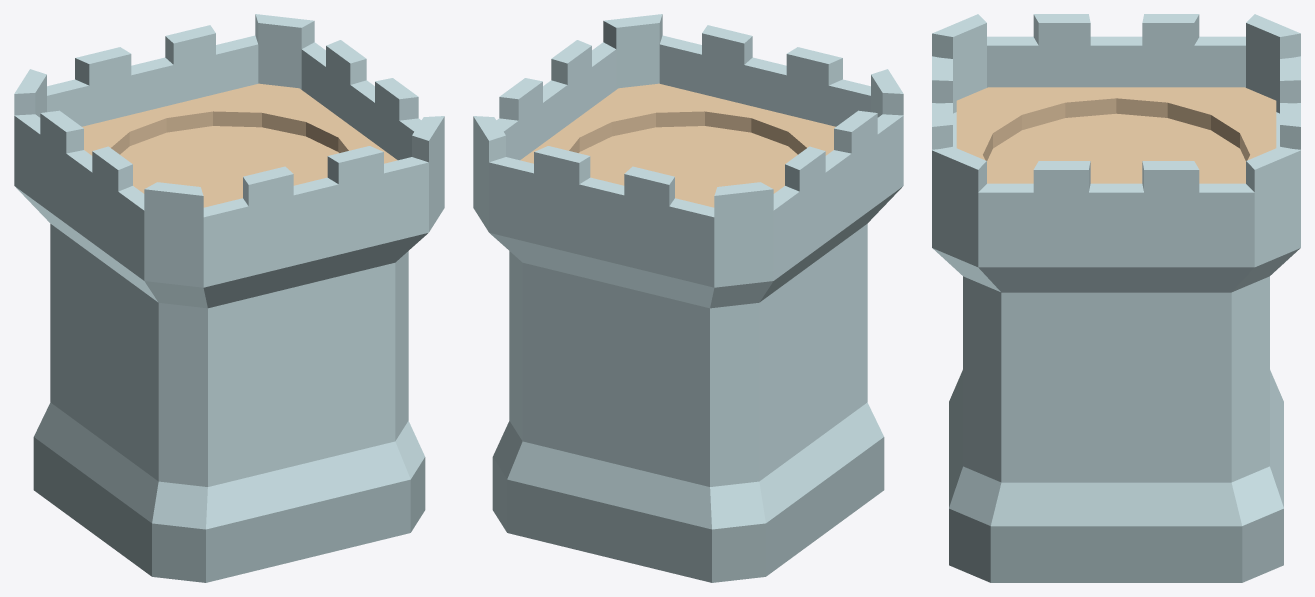
Rendered from Tower_3_Stone.fbx.
3 views of the same model, side by side, from view 1: azimuth 30°, elevation 25°; view 2: azimuth 150°, elevation 25°; view 3: azimuth 270°, elevation 25° (orthographic). The views are drawn at different scales.
Parts seen in each view (by area): view 1: Tower_3_Stone; view 2: Tower_3_Stone; view 3: Tower_3_Stone.
Boxes of the visible parts, x1=… form: Tower_3_Stone: x1=14, y1=14, x2=444, y2=582; Tower_3_Stone: x1=473, y1=14, x2=903, y2=582; Tower_3_Stone: x1=932, y1=14, x2=1300, y2=582.
Size of the model in its own units: 0.88 by 1.11 by 0.88.
